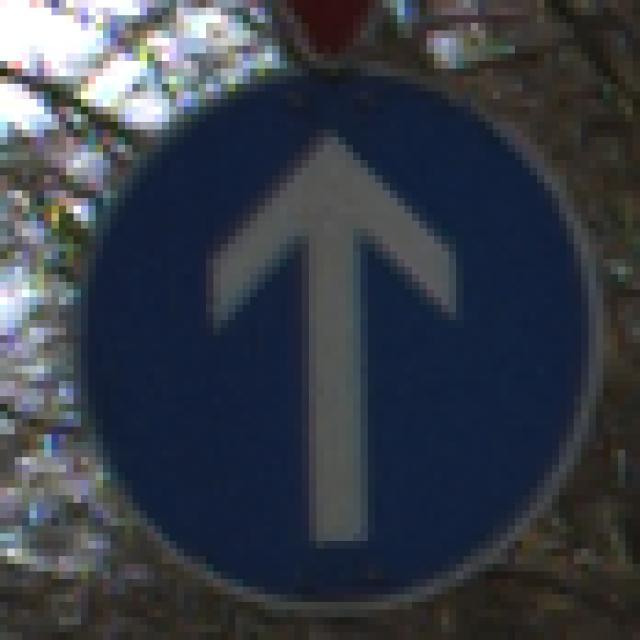compulsary ahead: (64, 49, 615, 634)
